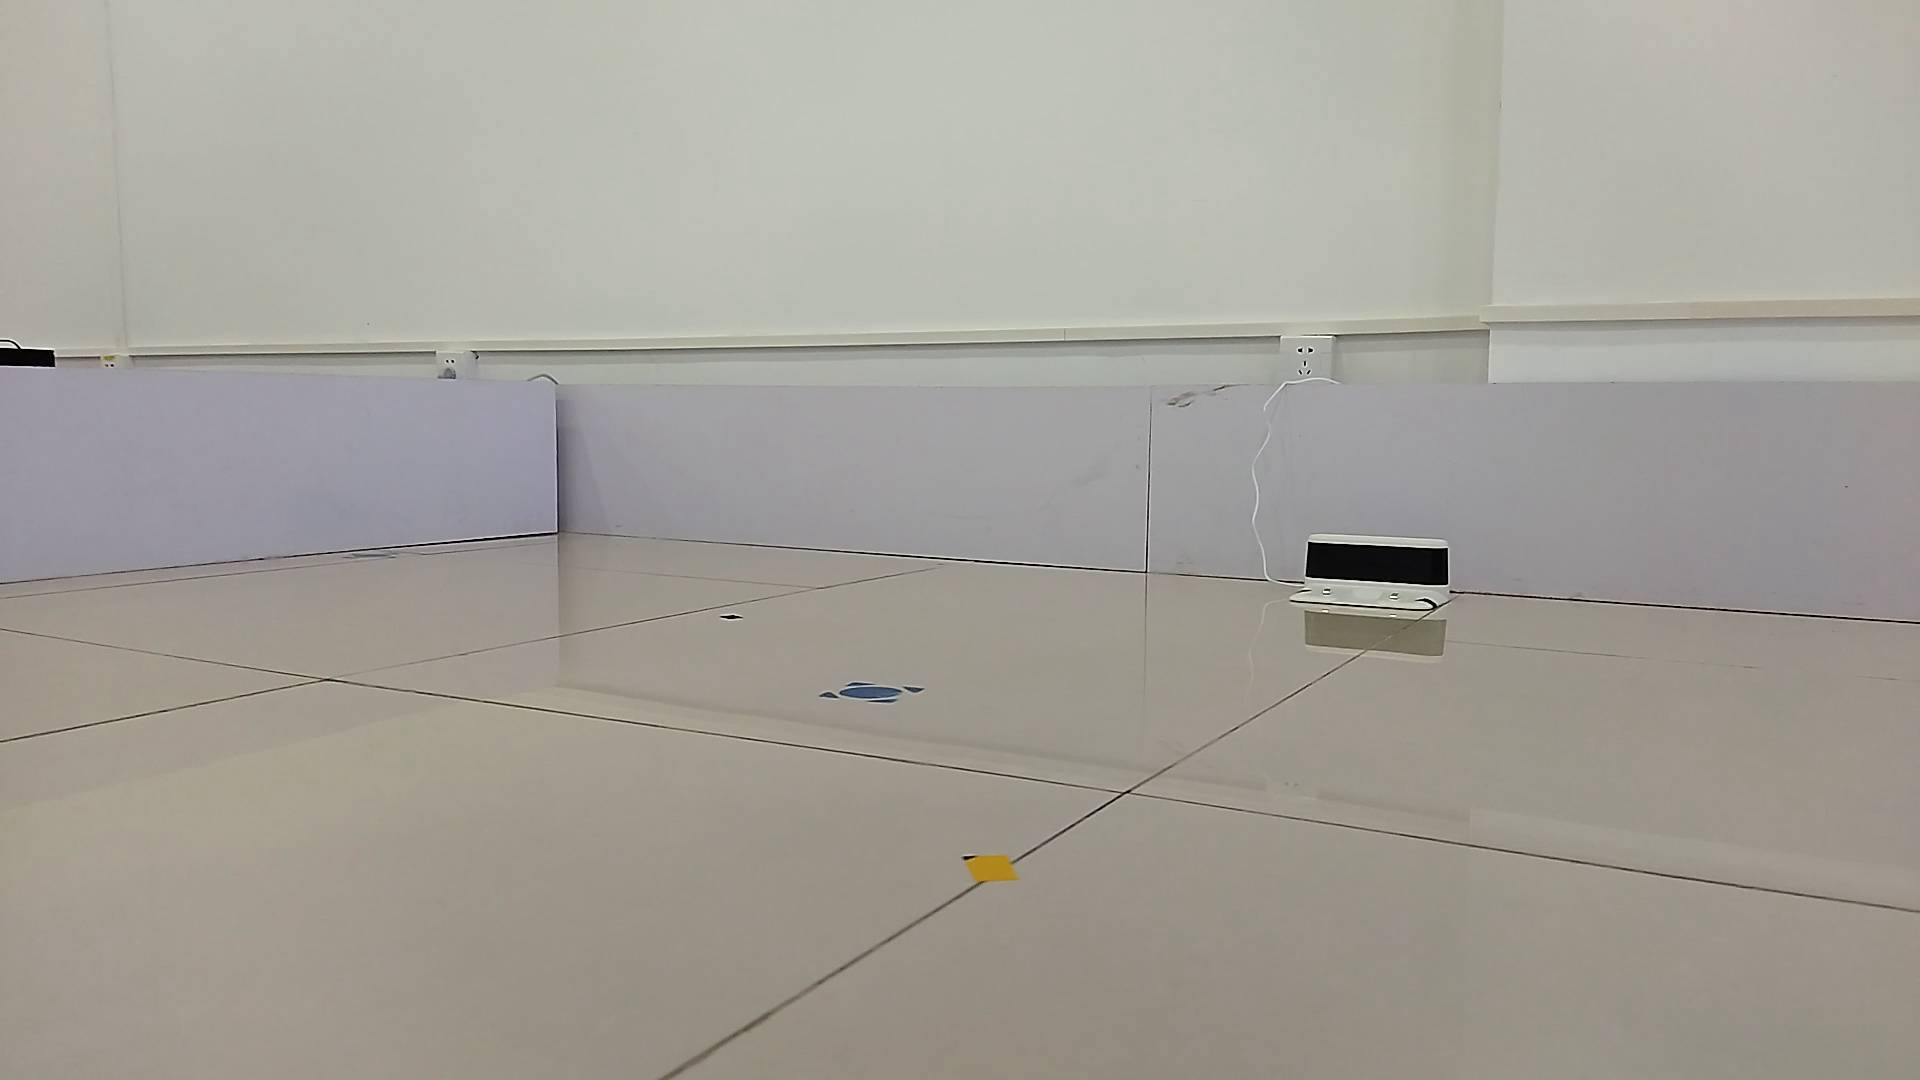recharge seat: (1287, 531, 1451, 609)
